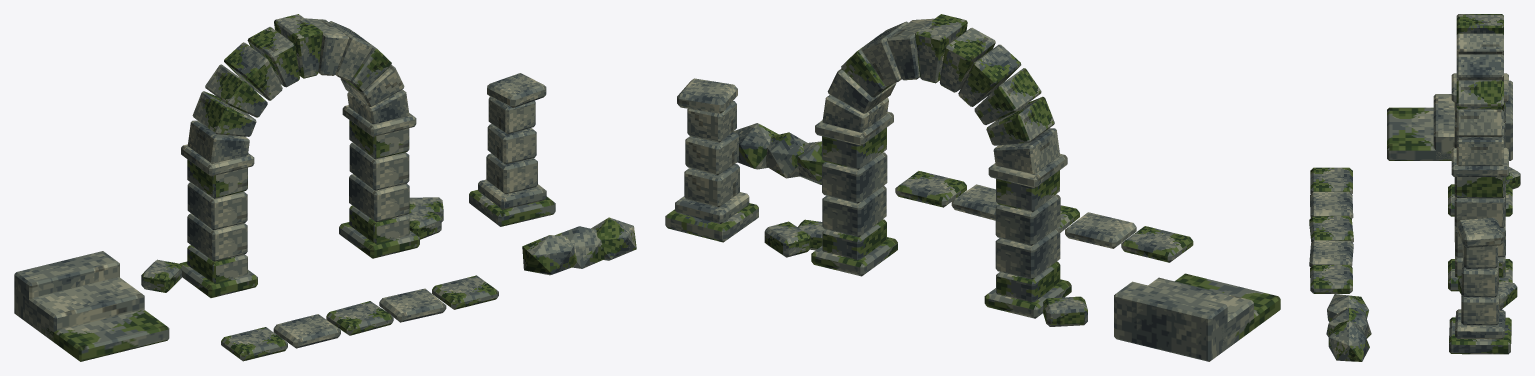
File: mossbound_modular_kit.fbx
3 views of the same model, side by side, from view 1: azimuth 30°, elevation 25°; view 2: azimuth 150°, elevation 25°; view 3: azimuth 270°, elevation 25° (orthographic). The views are drawn at different scales.
Parts seen in each view (by area): view 1: Stair_module_01, Stair_module_00, Stair_module_02, Gate_pier_1_01, Gate_pier_-1_01, Gate_pier_-1_02, Gate_pier_1_02, Gate_arch_stone_05, Gate_arch_stone_09, Gate_arch_stone_07, Rock_fragment_00, Gate_arch_stone_06 (+31 smaller); view 2: Stair_module_02, Gate_pier_-1_02, Gate_pier_1_02, Gate_pier_-1_01, Gate_pier_1_01, Gate_arch_stone_05, Gate_arch_stone_09, Gate_arch_stone_07, Gate_arch_stone_06, Gate_arch_stone_08, Gate_arch_stone_10, Stair_module_00 (+30 smaller); view 3: Stair_module_00, Gate_arch_stone_02, Gate_arch_stone_00, Stair_module_01, Gate_arch_stone_01, Rock_fragment_02, Gate_arch_stone_03, Pillar_course_014, Paving_slab_04, Gate_pier_1_02, Pillar_broken_cap, Pillar_course_082 (+21 smaller).
Part boxes in pixels (x1,y1,x2,y2): Stair_module_01: [23, 277, 144, 341]; Stair_module_00: [36, 309, 169, 361]; Stair_module_02: [14, 251, 119, 319]; Gate_pier_1_01: [349, 174, 409, 222]; Gate_pier_-1_01: [187, 213, 247, 261]; Gate_pier_-1_02: [187, 182, 247, 230]; Gate_pier_1_02: [349, 142, 409, 190]; Gate_arch_stone_05: [274, 14, 322, 78]; Gate_arch_stone_09: [192, 91, 256, 136]; Gate_arch_stone_07: [224, 42, 282, 100]; Rock_fragment_00: [522, 235, 575, 275]; Gate_arch_stone_06: [247, 27, 299, 87]; Stair_module_02: [1114, 281, 1227, 361]; Gate_pier_-1_02: [995, 194, 1060, 245]; Gate_pier_1_02: [822, 152, 887, 203]; Gate_pier_-1_01: [995, 228, 1060, 279]; Gate_pier_1_01: [822, 186, 886, 237]; Gate_arch_stone_05: [915, 14, 967, 83]; Gate_arch_stone_09: [986, 96, 1054, 145]; Gate_arch_stone_07: [958, 44, 1021, 106]; Gate_arch_stone_06: [939, 27, 995, 92]; Gate_arch_stone_08: [974, 68, 1041, 124]; Gate_arch_stone_10: [993, 128, 1060, 174]; Stair_module_00: [1175, 273, 1280, 346]; Stair_module_00: [1387, 107, 1451, 160]; Gate_arch_stone_02: [1456, 80, 1503, 110]; Gate_arch_stone_00: [1456, 135, 1503, 165]; Stair_module_01: [1433, 94, 1454, 160]; Gate_arch_stone_01: [1456, 109, 1503, 136]; Rock_fragment_02: [1328, 320, 1369, 361]; Gate_arch_stone_03: [1456, 54, 1503, 81]; Pillar_course_014: [1449, 317, 1511, 354]; Paving_slab_04: [1310, 264, 1352, 293]; Gate_pier_1_02: [1454, 187, 1505, 227]; Pillar_broken_cap: [1457, 217, 1503, 247]; Pillar_course_082: [1461, 287, 1499, 325].
Bounding box in the file's own units: 1175 × 512 × 427.
Materials: 2 (2 with a texture image).
